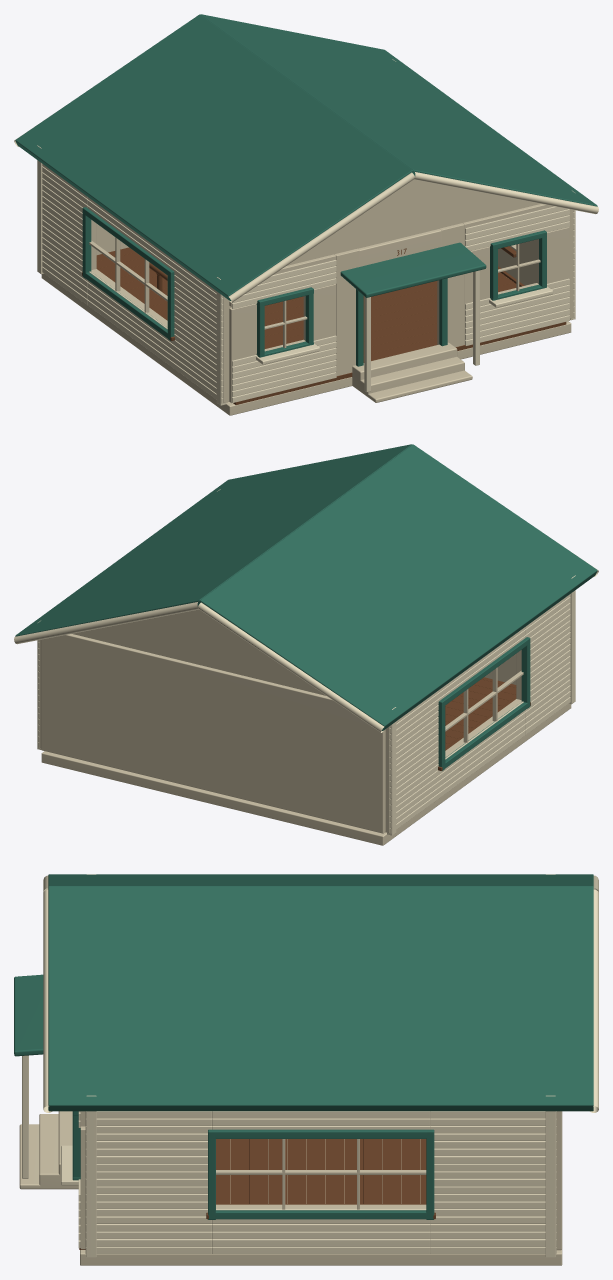
The model's file is FieldHouse.fbx.
3 views of the same model, one above another, from view 1: azimuth 30°, elevation 25°; view 2: azimuth 150°, elevation 25°; view 3: azimuth 270°, elevation 25° (orthographic). The views are drawn at different scales.
Parts seen in each view (by area): view 1: Roof / dark standing seam, Roof / dark standing seam.001, House / gable, Porch / canopy, House / foundation, House / door jamb wall, House / door jamb wall.001, Porch / step.002, Roof / fascia, Porch / step.001, House / door lintel, Roof / fascia.002 (+50 smaller); view 2: Roof / dark standing seam, House / back wall, Roof / dark standing seam.001, House / gable.001, House / foundation, Roof / fascia.001, Roof / fascia.003, Window / casing.002, Window / casing.003, House / corner board.001, House / corner board, Window / casing (+7 smaller); view 3: Roof / dark standing seam.001, Roof / dark standing seam, House / foundation, Porch / canopy, Window / casing.007, Window / casing.006, Siding / clapboard.052, Siding / clapboard.055, Siding / clapboard.058, Siding / clapboard.061, Siding / clapboard.093, Siding / clapboard.096 (+66 smaller).
Boxes of the visible parts, x1,y1,x2,y2 form: Roof / dark standing seam: [15, 14, 413, 300]; Roof / dark standing seam.001: [200, 14, 597, 206]; House / gable: [287, 179, 540, 265]; Porch / canopy: [340, 242, 486, 297]; House / foundation: [41, 273, 571, 415]; House / door jamb wall: [334, 248, 359, 375]; House / door jamb wall.001: [437, 223, 464, 347]; Porch / step.002: [352, 342, 457, 390]; Roof / fascia: [228, 172, 414, 302]; Porch / step.001: [359, 357, 464, 396]; House / door lintel: [358, 229, 441, 266]; Roof / fascia.002: [414, 172, 598, 214]; Roof / dark standing seam: [199, 444, 597, 730]; House / back wall: [41, 634, 385, 833]; Roof / dark standing seam.001: [15, 444, 412, 636]; House / gable.001: [72, 609, 325, 695]; House / foundation: [41, 703, 571, 845]; Roof / fascia.001: [198, 602, 384, 732]; Roof / fascia.003: [14, 602, 198, 644]; Window / casing.002: [439, 702, 530, 768]; Window / casing.003: [439, 637, 529, 706]; House / corner board.001: [387, 707, 396, 835]; House / corner board: [569, 575, 575, 704]; Window / casing: [521, 638, 530, 708]; Roof / dark standing seam.001: [48, 886, 593, 1111]; Roof / dark standing seam: [48, 874, 593, 887]; House / foundation: [80, 1139, 562, 1265]; Porch / canopy: [14, 974, 43, 1056]; Window / casing.007: [208, 1129, 433, 1138]; Window / casing.006: [209, 1210, 434, 1219]; Siding / clapboard.052: [212, 1246, 430, 1253]; Siding / clapboard.055: [212, 1239, 430, 1246]; Siding / clapboard.058: [212, 1231, 430, 1238]; Siding / clapboard.061: [212, 1224, 430, 1231]; Siding / clapboard.093: [212, 1118, 430, 1125]; Siding / clapboard.096: [212, 1111, 430, 1118].
Size of the model in its own units: 951 by 525 by 1019.
